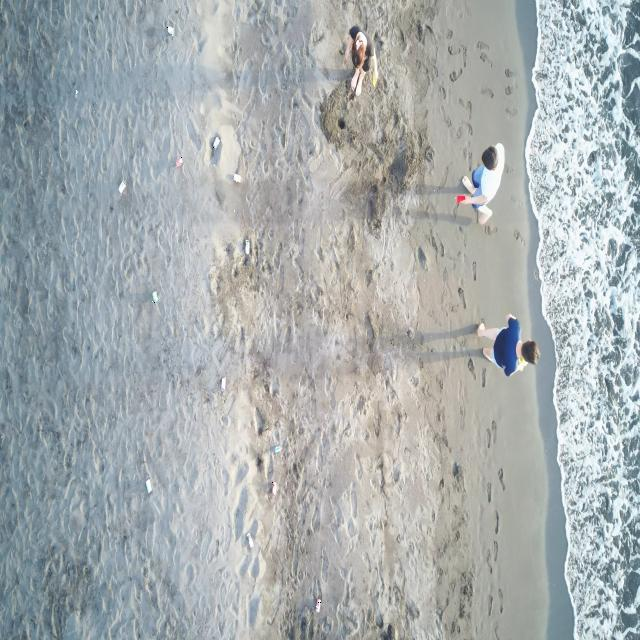Garbage: (209, 135, 220, 164), (455, 193, 466, 203), (144, 477, 151, 492), (151, 289, 158, 303), (212, 136, 220, 148), (175, 155, 183, 167), (118, 180, 125, 193), (232, 172, 240, 183), (243, 239, 249, 253), (270, 481, 276, 495), (247, 532, 252, 547), (315, 597, 320, 612), (167, 24, 173, 35), (272, 444, 280, 452), (220, 376, 224, 391), (75, 88, 76, 96)
